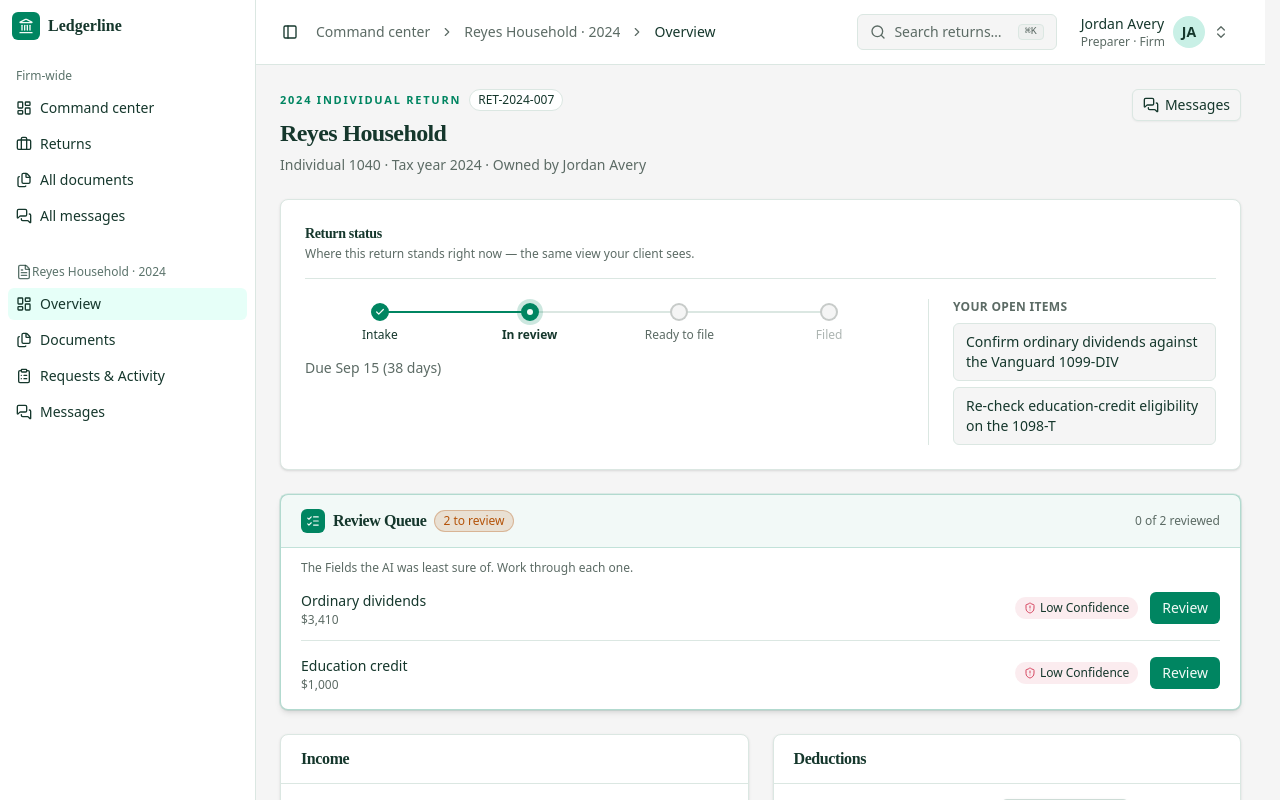
Scenario: Firm Provenance back behavior › hides the header Back on a fresh deep link until a step is taken
This screenshot has width=1280, height=800.
# Switching Areas pushes a step, revealing the Back arrow.
Click the link "Documents". click: (66, 340)
box: x1=16 y1=330 x2=116 y2=349
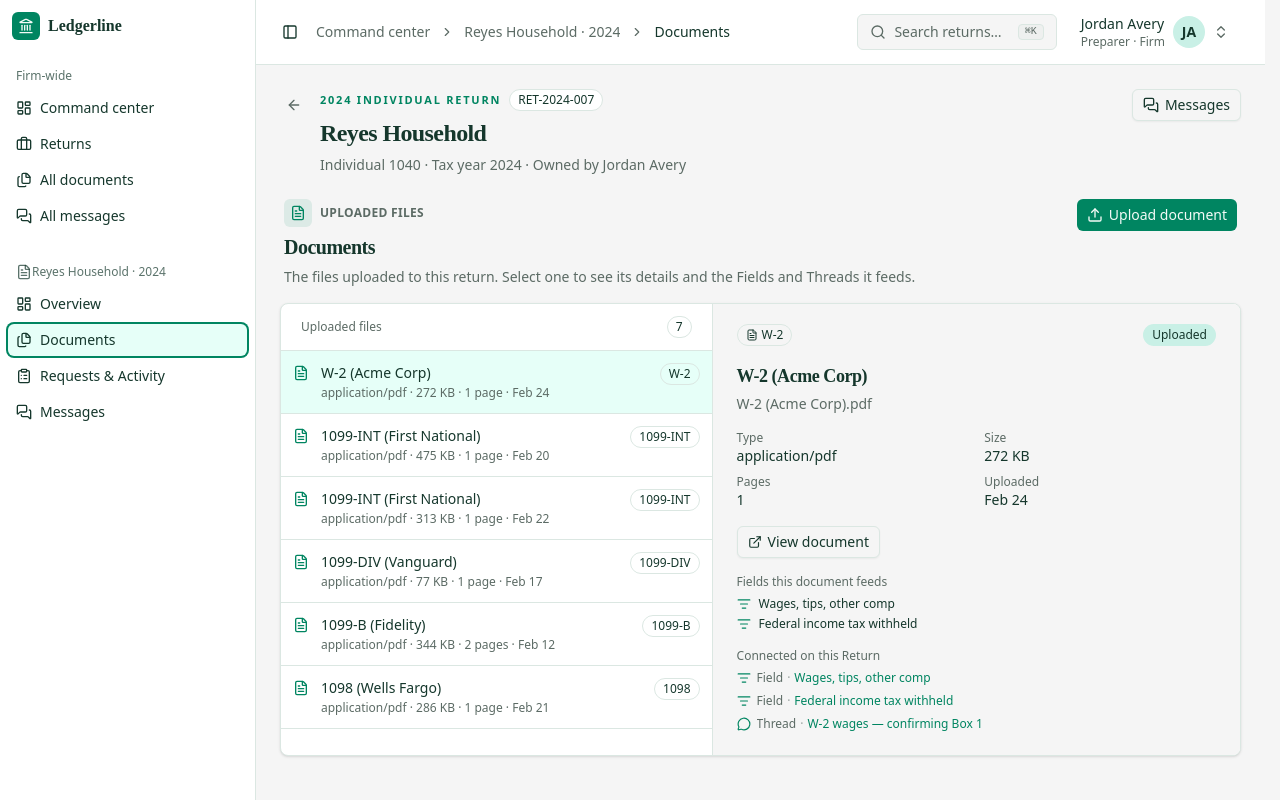
Expected: the button named "Go back" is shown, x1=276 y1=87 x2=312 y2=123
